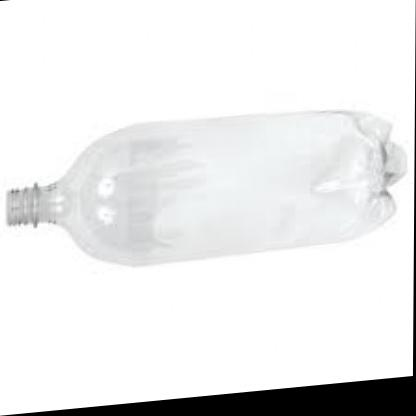Plastic: (3, 94, 410, 304)
